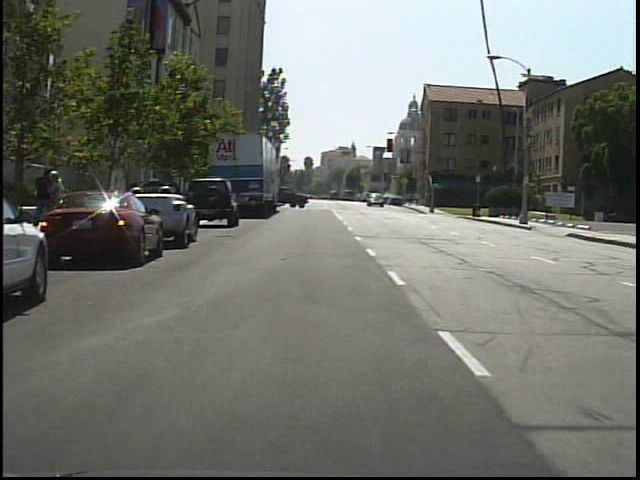person: (33, 163, 63, 238), (46, 169, 73, 225)
